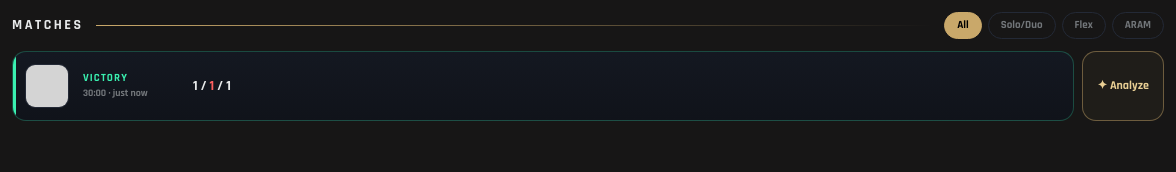
Test: MatchHistory queue filters › shows the empty-state line when a filter matches nothing
Click the button "ARAM".
click(1138, 25)  # box [1112, 12, 1164, 38]
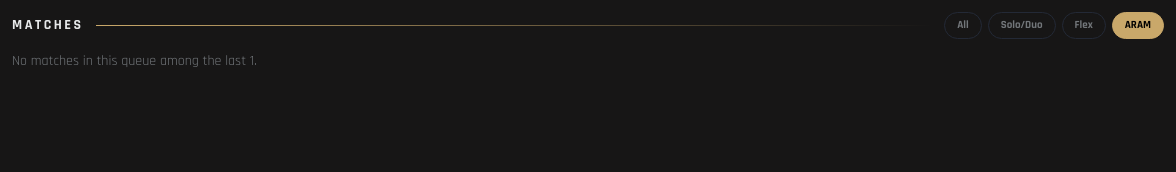
Check: the text "No matches in this queue among the last 1." is shown, box [12, 52, 257, 70]
